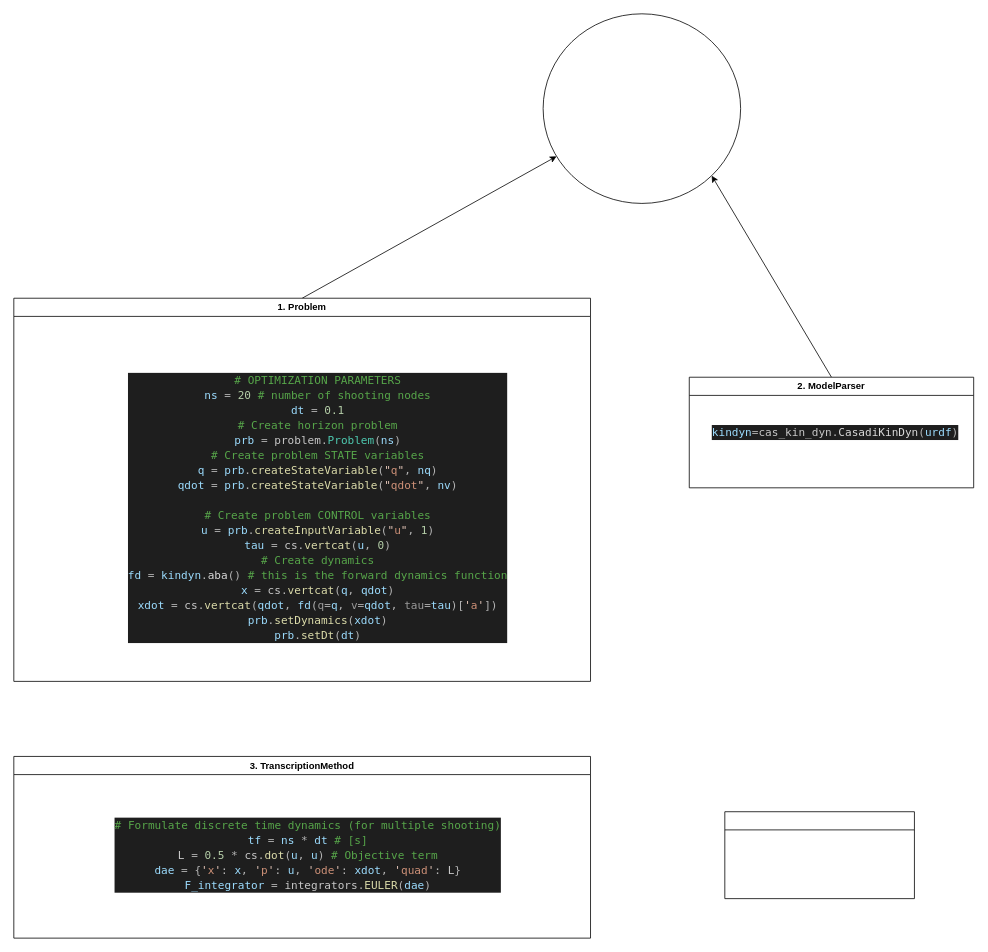
Image size: 988x952. Some labels were removed from this diagram. The shapes that lost their labels are listed below. From the top down, each one's centre as x and y in pixels, then its label:
At (x=641, y=108): "ti = TaskInterface ( prb = prb , model = model )".
At (x=819, y=855): "4. Solver".
